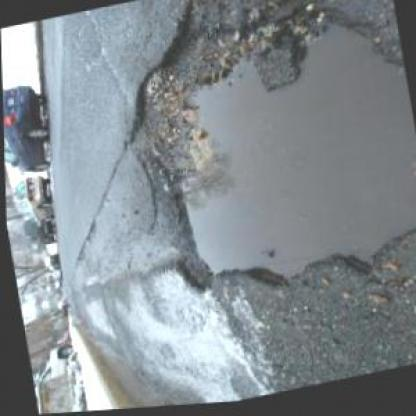pothole: (101, 0, 414, 327)
